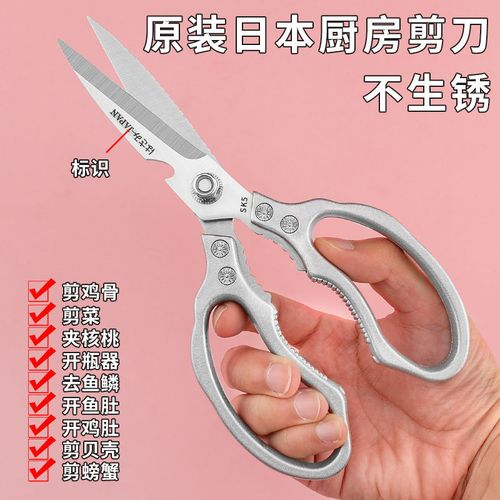scissor: (58, 12, 472, 480)
